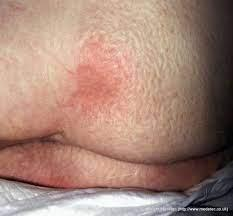Stage1: (51, 42, 140, 111)
